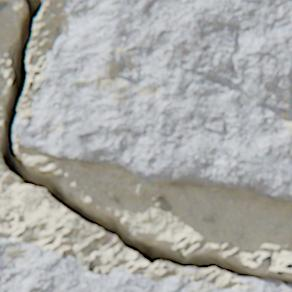brick: (15, 0, 291, 203), (0, 238, 288, 291)
crack: (0, 0, 291, 291)
